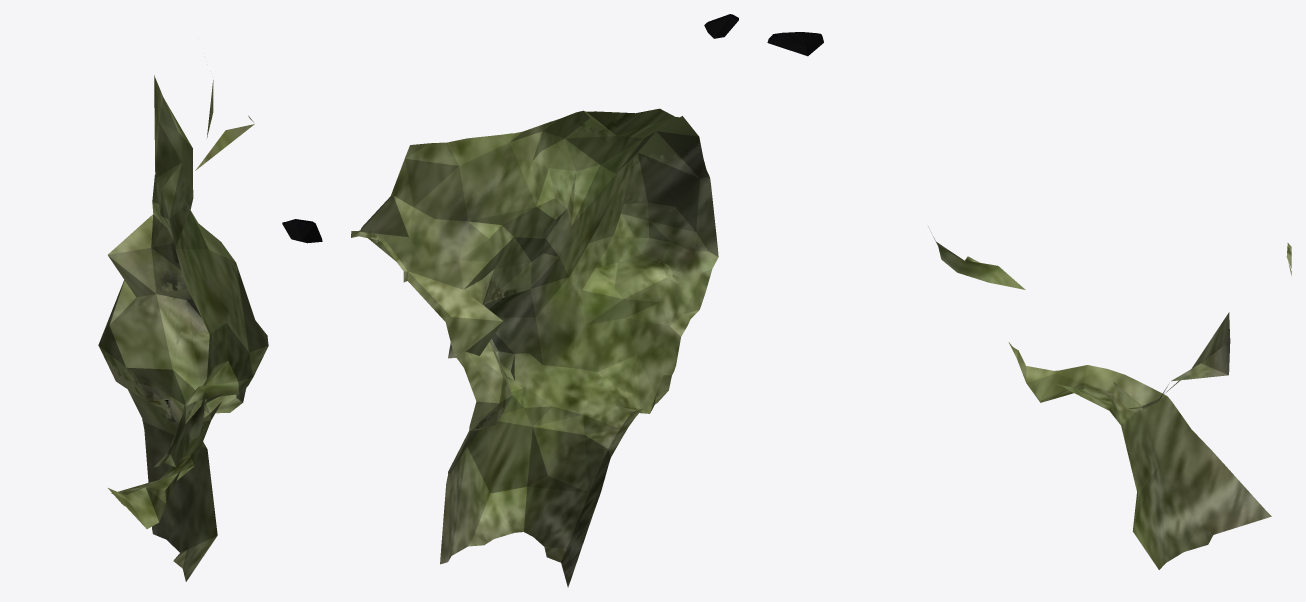
3 renders of one model, left to right at view 1: azimuth 30°, elevation 25°; view 2: azimuth 150°, elevation 25°; view 3: azimuth 270°, elevation 25°, orthographic. The views are drawn at different scales.
Bounding box in the file's own units: 1.56 × 2.95 × 2.79.
2 materials, 2 textured.
